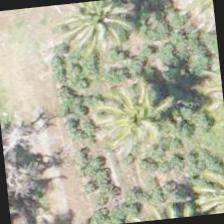Kelapa_Sawit: (82, 70, 180, 170), (51, 0, 148, 67)
